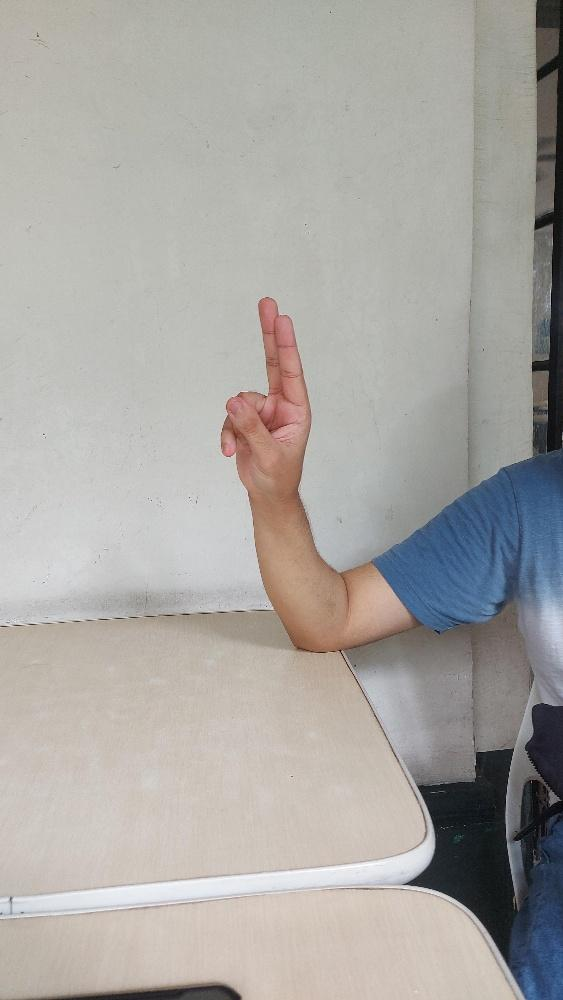u: (219, 295, 311, 501)
